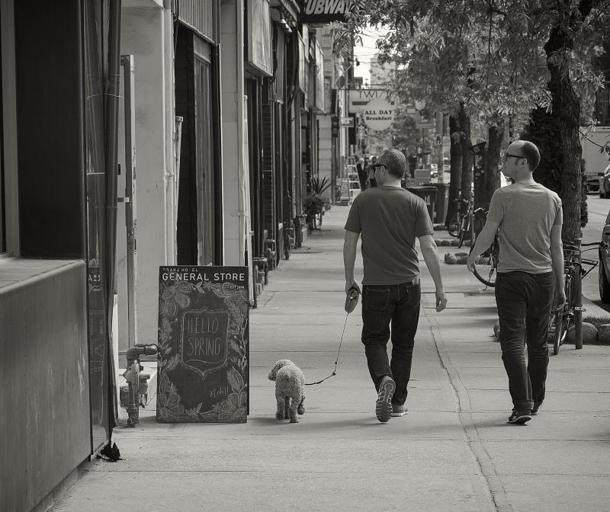non-vehicle: (548, 241, 599, 353), (468, 208, 498, 286), (446, 193, 472, 247)
